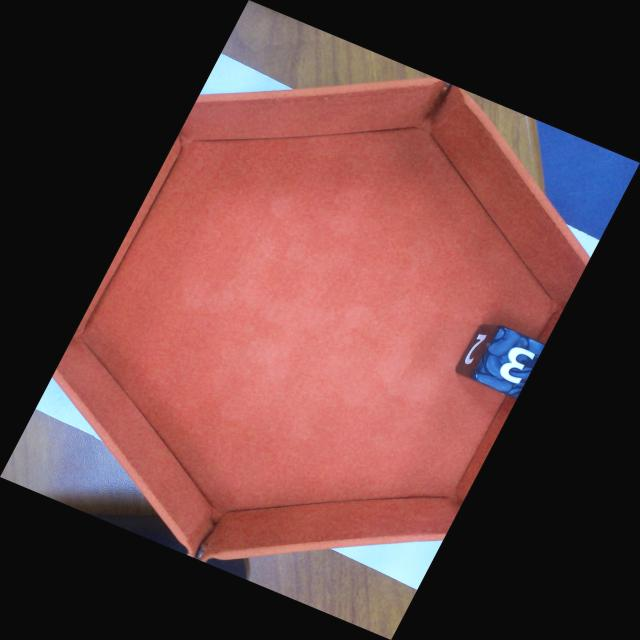dice: (479, 328, 544, 394)
